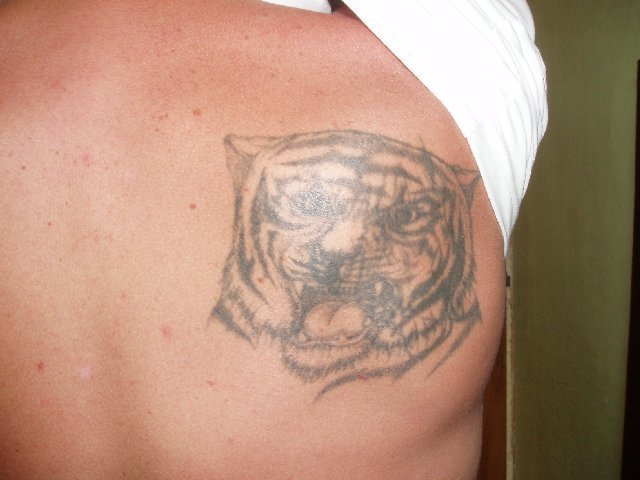tatu5_tigr: (214, 131, 492, 390)
